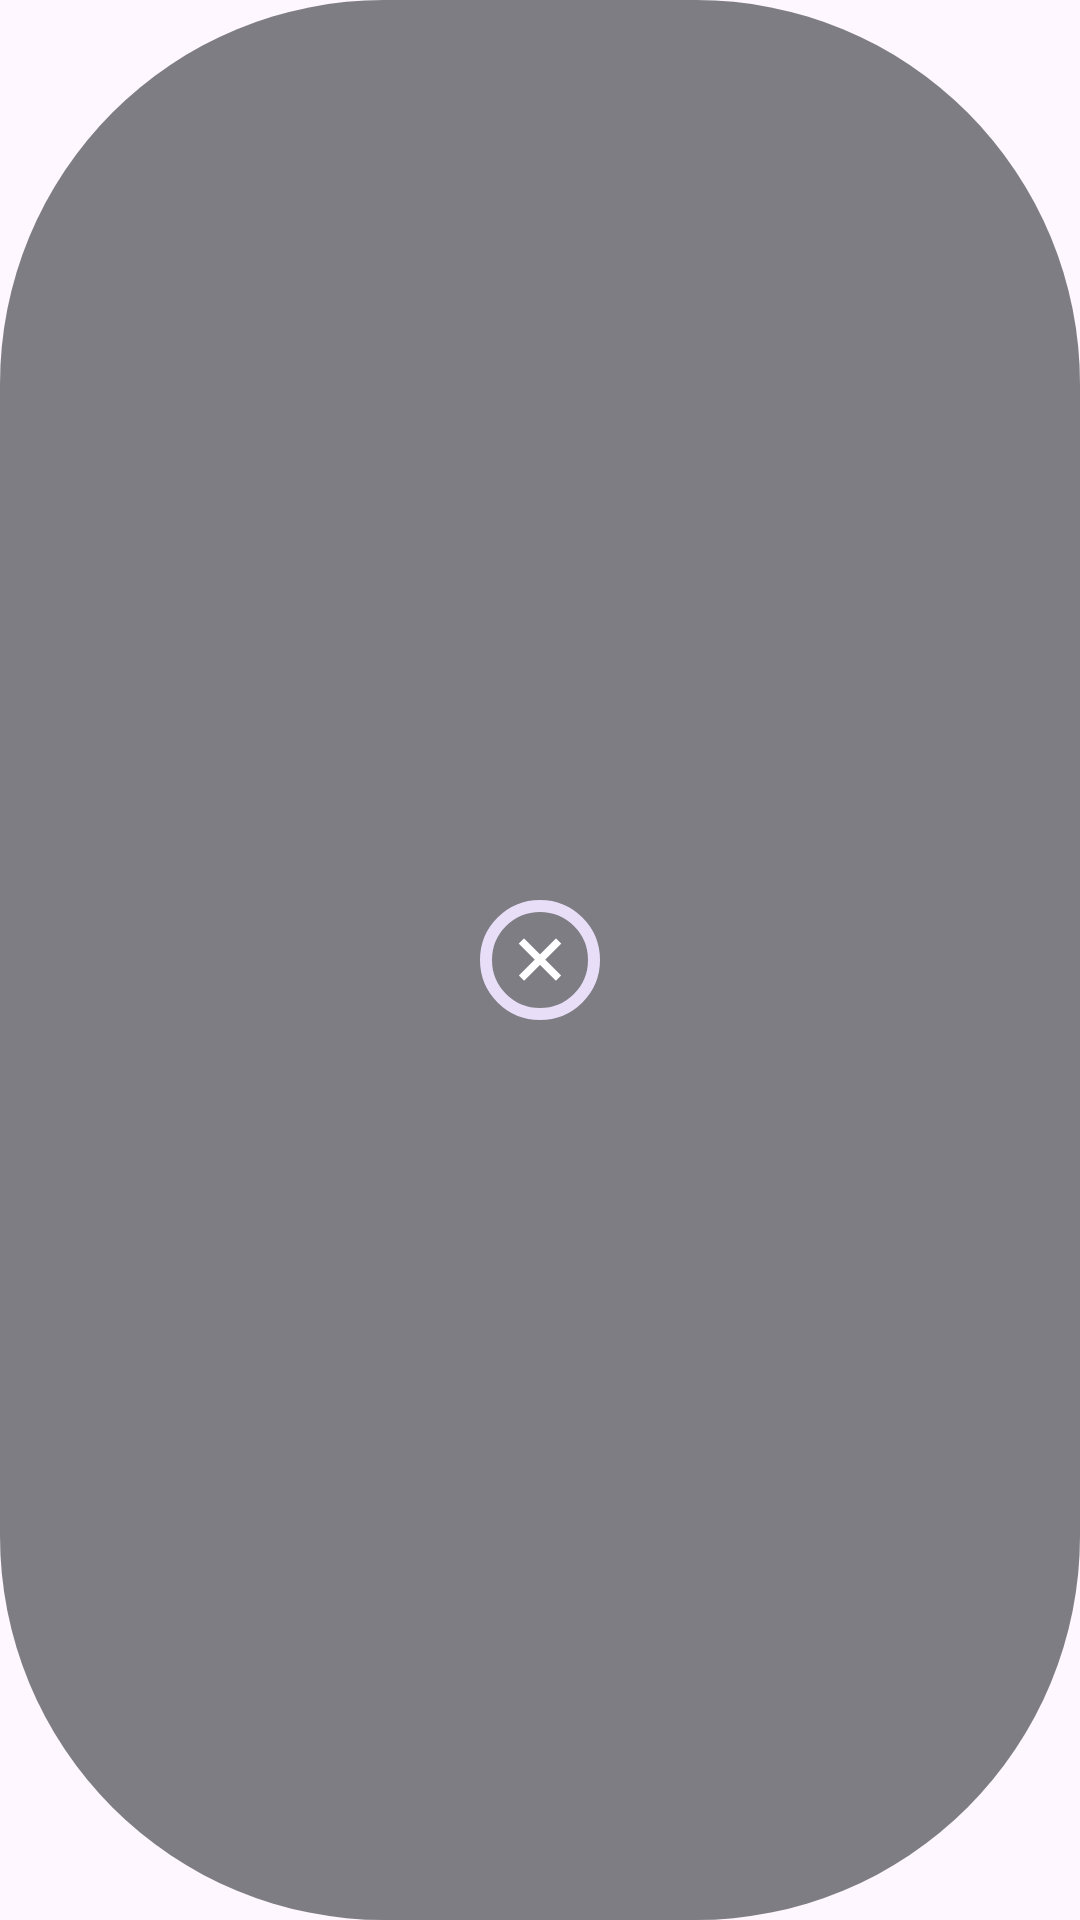

Point at icon controls on the screen. Image size 1080w x 1920h, points as (x,y).
close for progress: (540,960)
